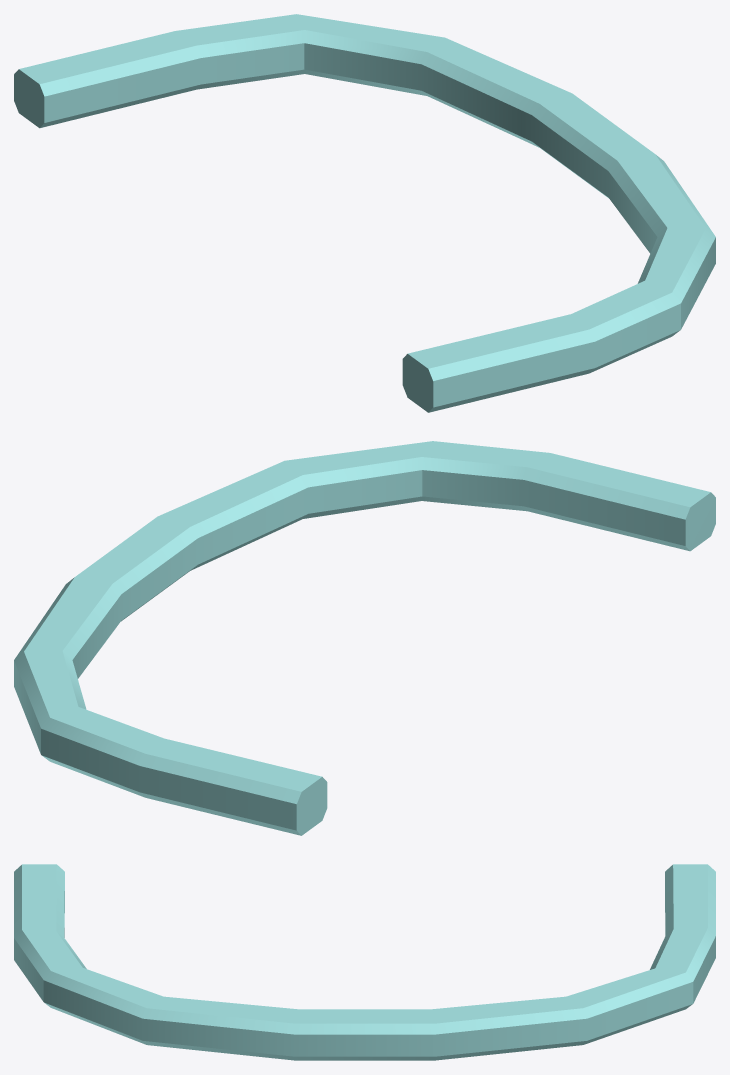
Rendered from keyboard_line.fbx.
The picture shows the model from 3 angles, top to bottom: view 1: azimuth 30°, elevation 25°; view 2: azimuth 150°, elevation 25°; view 3: azimuth 270°, elevation 25°; orthographic projection. The views are drawn at different scales.
Visible parts, largest first — view 1: keyboard_line; view 2: keyboard_line; view 3: keyboard_line.
Part boxes in pixels (x1=…): keyboard_line: x1=14, y1=14, x2=715, y2=412; keyboard_line: x1=14, y1=441, x2=715, y2=835; keyboard_line: x1=14, y1=864, x2=715, y2=1060.
Size of the model in its own units: 1.03 by 0.1092 by 1.88.
